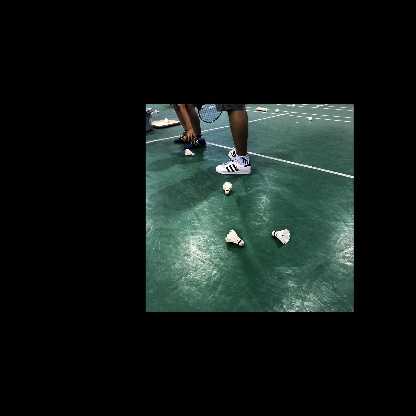ball_single: (225, 230, 244, 246), (272, 229, 290, 244), (223, 182, 232, 195), (185, 149, 195, 156), (255, 107, 267, 111), (308, 117, 312, 121), (292, 104, 296, 107), (276, 109, 279, 112)
